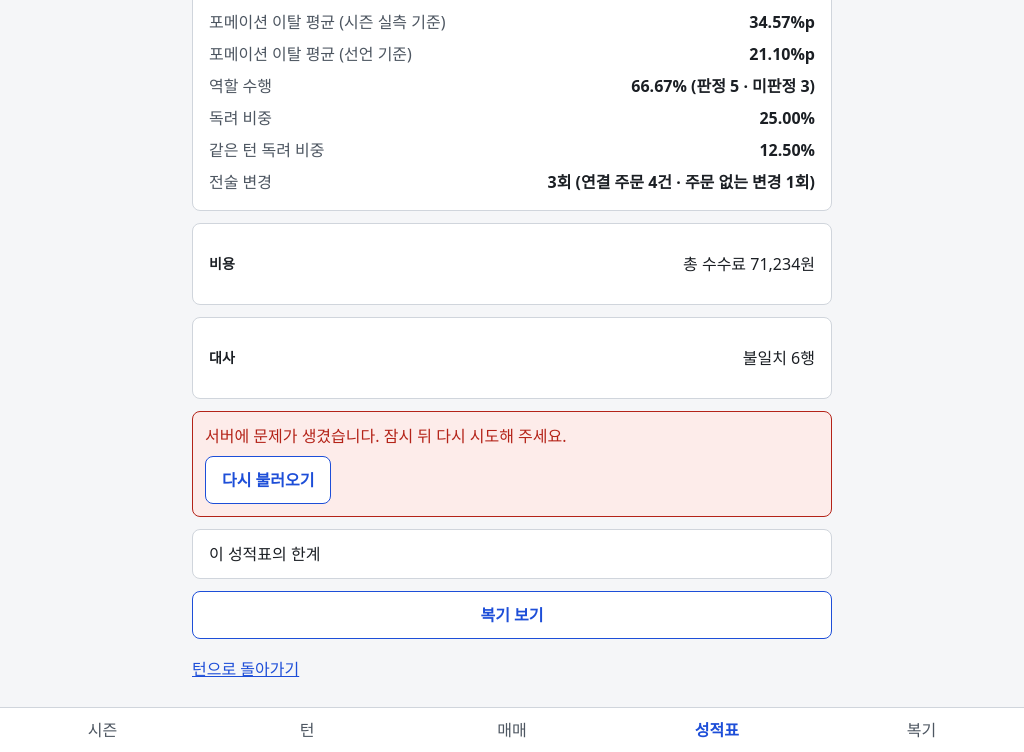
Scenario: report analysis blocks › A9 keeps the report rows when the analysis fails, and retries with one more GET
The width and height of the screenshot is (1024, 752).
(page scrolled)
Expected: the message shows "서버에 문제가 생겼습니다.", [205,424,566,446]
Step 1. Click the button "다시 불러오기" → coordinates (268, 480), box [205,456,332,504]
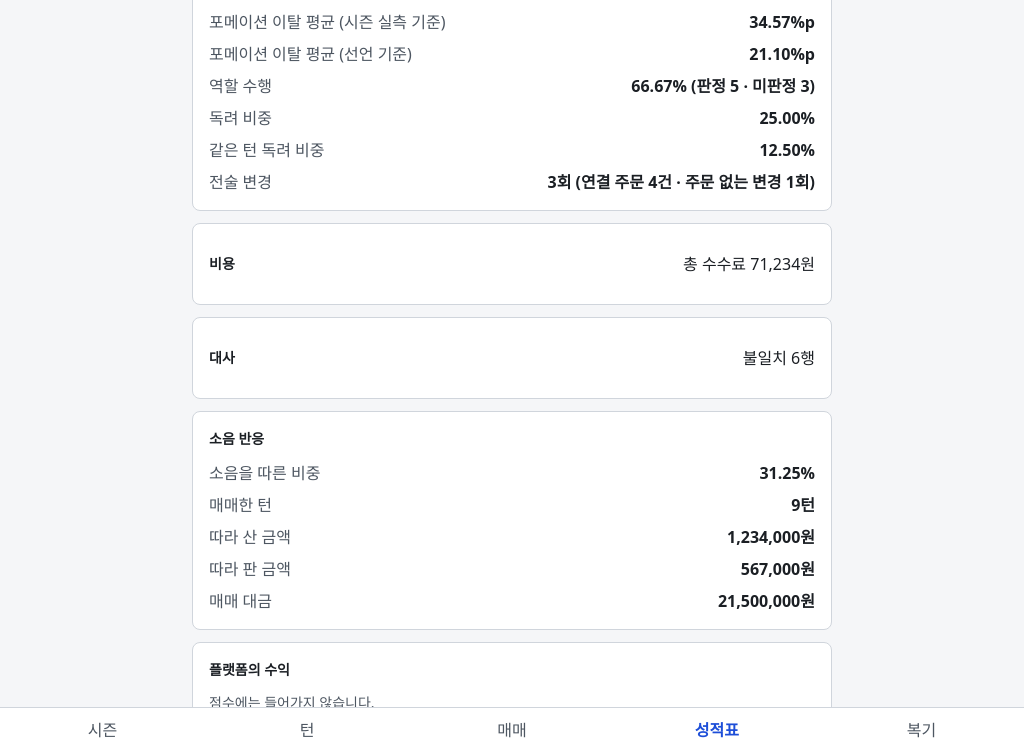
Expected: the heading "소음 반응" is shown, [209,428,264,448]
Expected: the message "서버에 문제가 생겼습니다. 잠시 뒤 다시 시도해 주세요. 다시 불러오기" is gone
